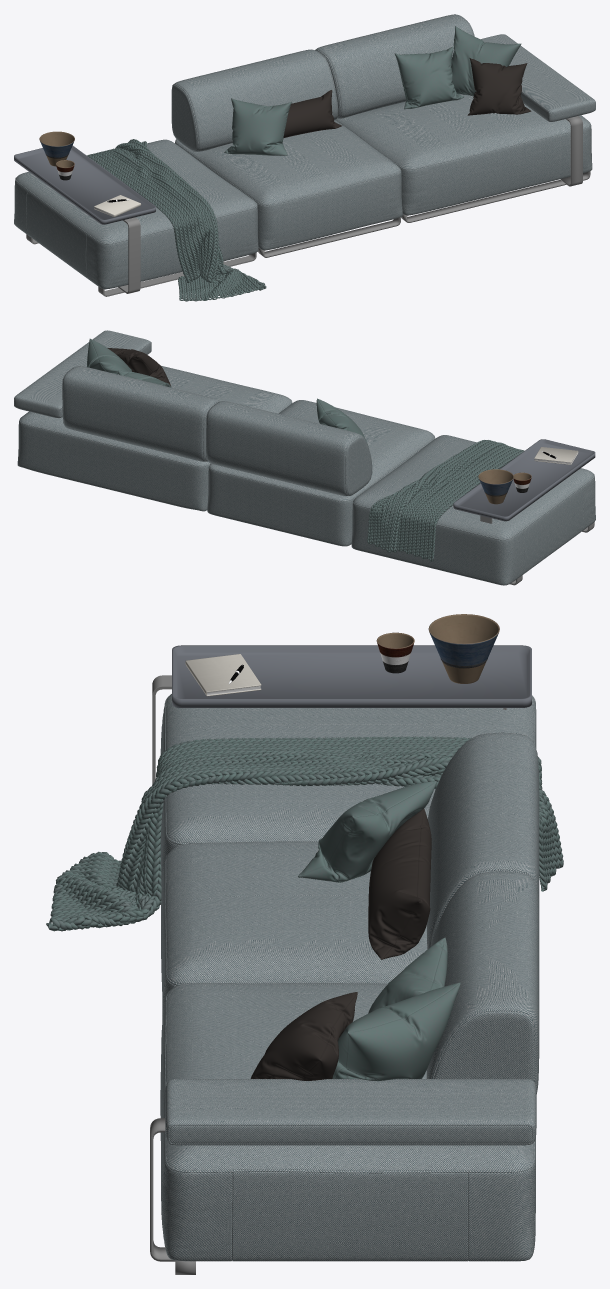
Rendered from Sofa_Straight_3.glb.
The picture shows the model from 3 angles, top to bottom: view 1: azimuth 30°, elevation 25°; view 2: azimuth 150°, elevation 25°; view 3: azimuth 270°, elevation 25°; orthographic projection. The views are drawn at different scales.
Parts seen in each view (by area): view 1: Straight_Sofa_1; view 2: Straight_Sofa_1; view 3: Straight_Sofa_1.
Part boxes in pixels (x1=…): Straight_Sofa_1: x1=14, y1=14, x2=595, y2=301; Straight_Sofa_1: x1=14, y1=330, x2=595, y2=585; Straight_Sofa_1: x1=46, y1=614, x2=563, y2=1274.
Bounding box in the file's own units: 3.37 × 0.767 × 1.53.
10 materials, 5 textured.
